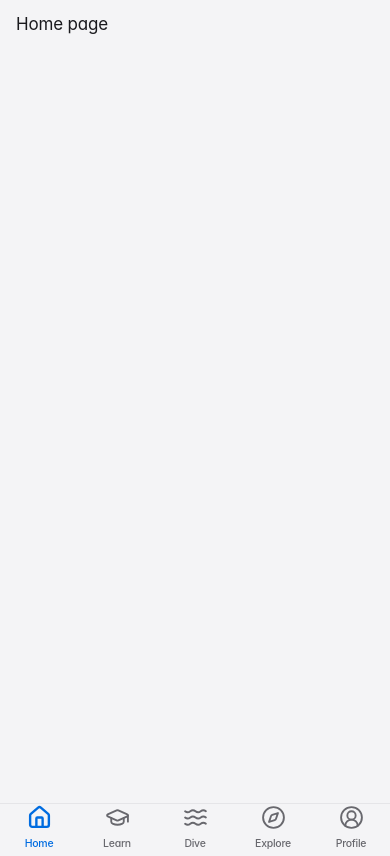
Test: navigation › navigates between tabs
The image size is (390, 856).
Click the link "Dive" at (195, 827), box [182,804,208,850]
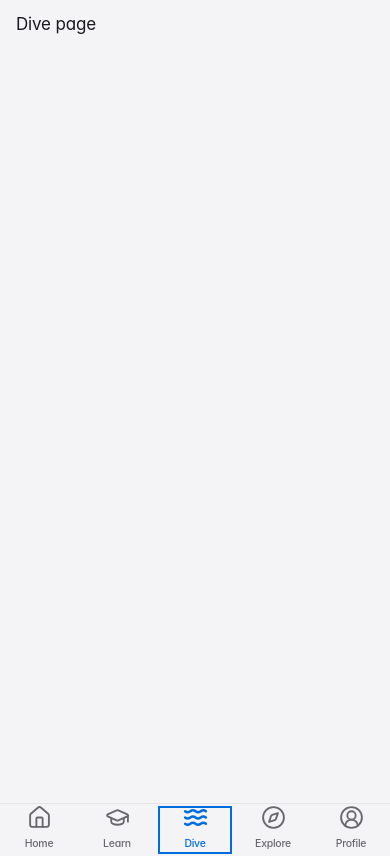
expect the text "Dive page" is shown: met, box [16,14,96,34]
